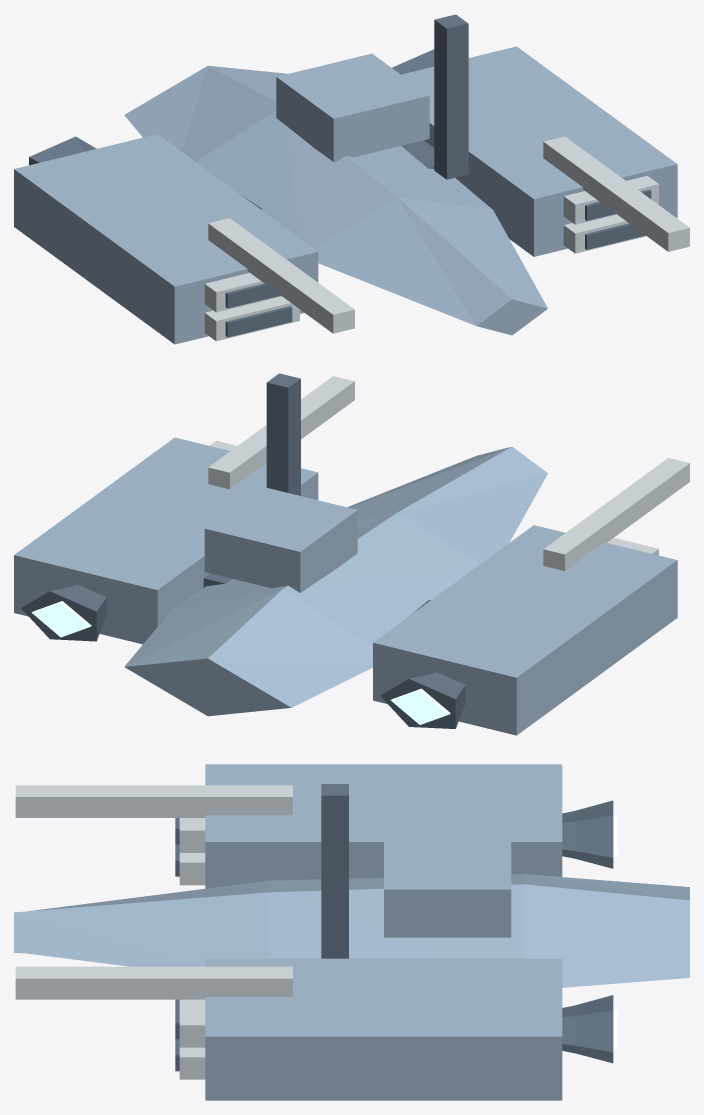
3 renders of one model, top to bottom at view 1: azimuth 30°, elevation 25°; view 2: azimuth 150°, elevation 25°; view 3: azimuth 270°, elevation 25°, orthographic. The views are drawn at different scales.
Size of the model in its own units: 11.15 by 4.51 by 11.69.
